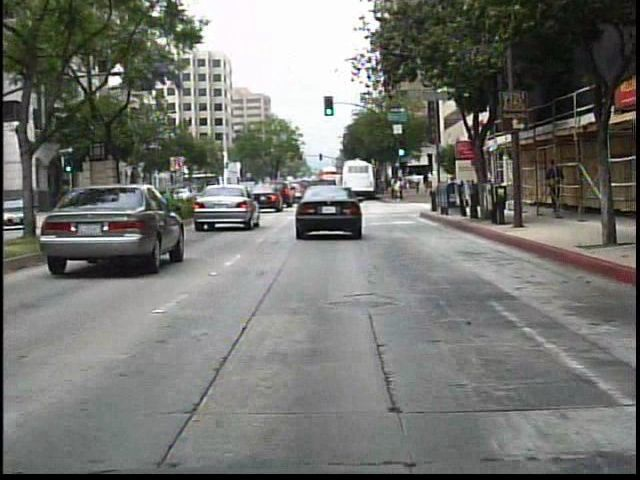person: (538, 156, 567, 221)
